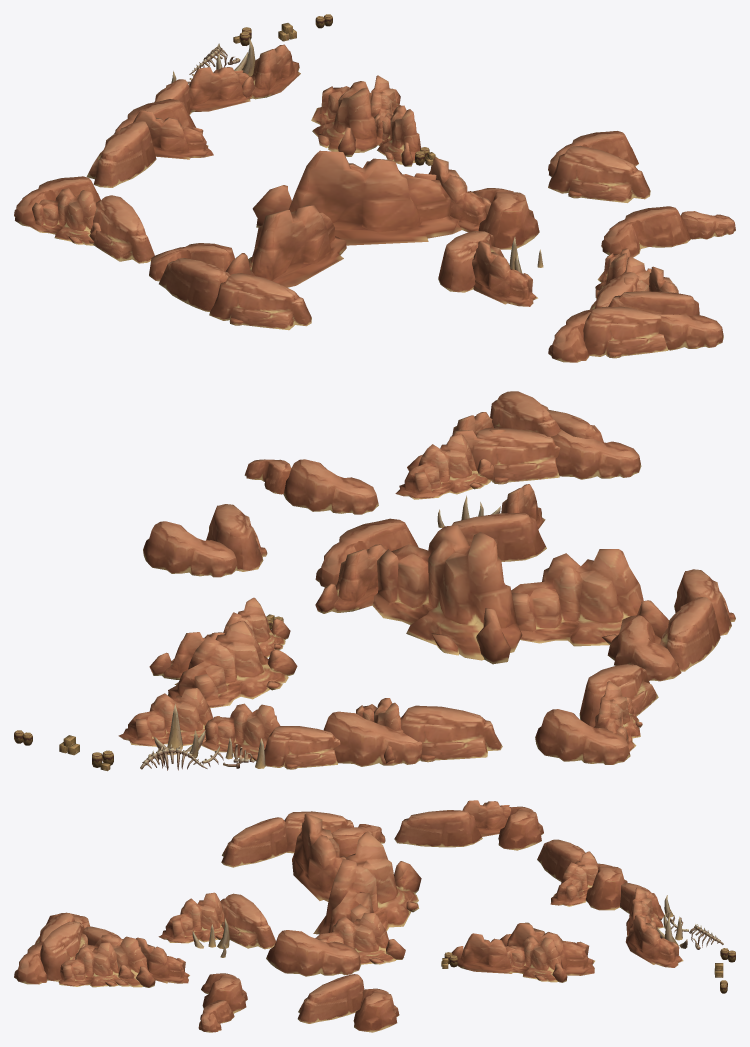
The model's file is rock_red04_y.FBX.
3 renders of one model, top to bottom at view 1: azimuth 30°, elevation 25°; view 2: azimuth 150°, elevation 25°; view 3: azimuth 270°, elevation 25°, orthographic. The views are drawn at different scales.
Parts seen in each view (by area): view 1: rock_red04_y; view 2: rock_red04_y; view 3: rock_red04_y.
Part boxes in pixels (x1,y1,x2,y2): rock_red04_y: (14,14,735,362); rock_red04_y: (14,391,735,771); rock_red04_y: (14,800,735,1032).
Size of the model in its own units: 83.7 by 13.51 by 118.
Materials: 1 (1 with a texture image).
